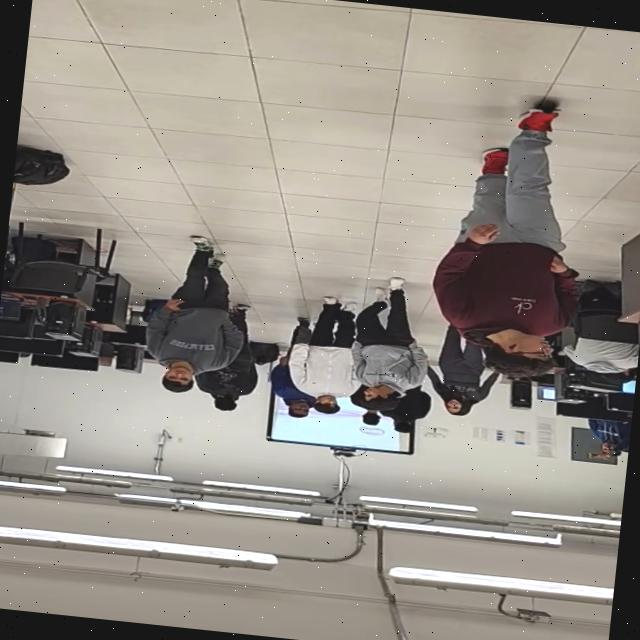Persona: (436, 94, 608, 384), (142, 228, 248, 398), (342, 274, 437, 414), (297, 290, 363, 416), (427, 314, 495, 423), (205, 301, 261, 420)
